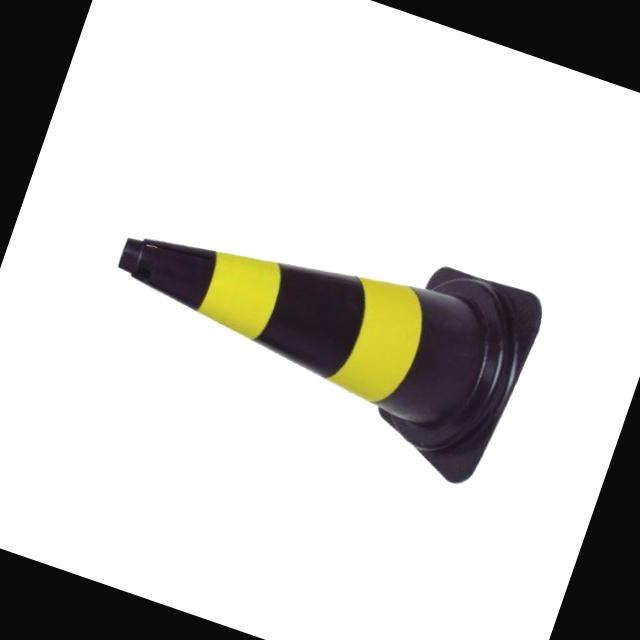cone: (80, 149, 548, 490)
